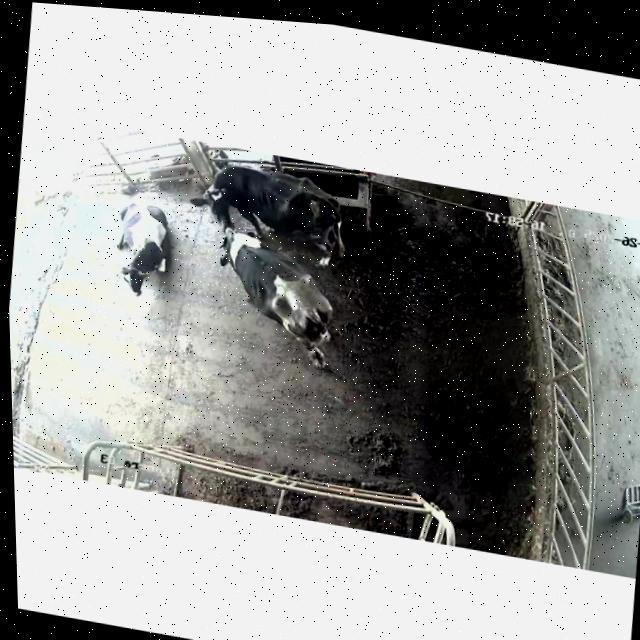stand: (202, 220, 343, 364), (188, 152, 354, 263)
